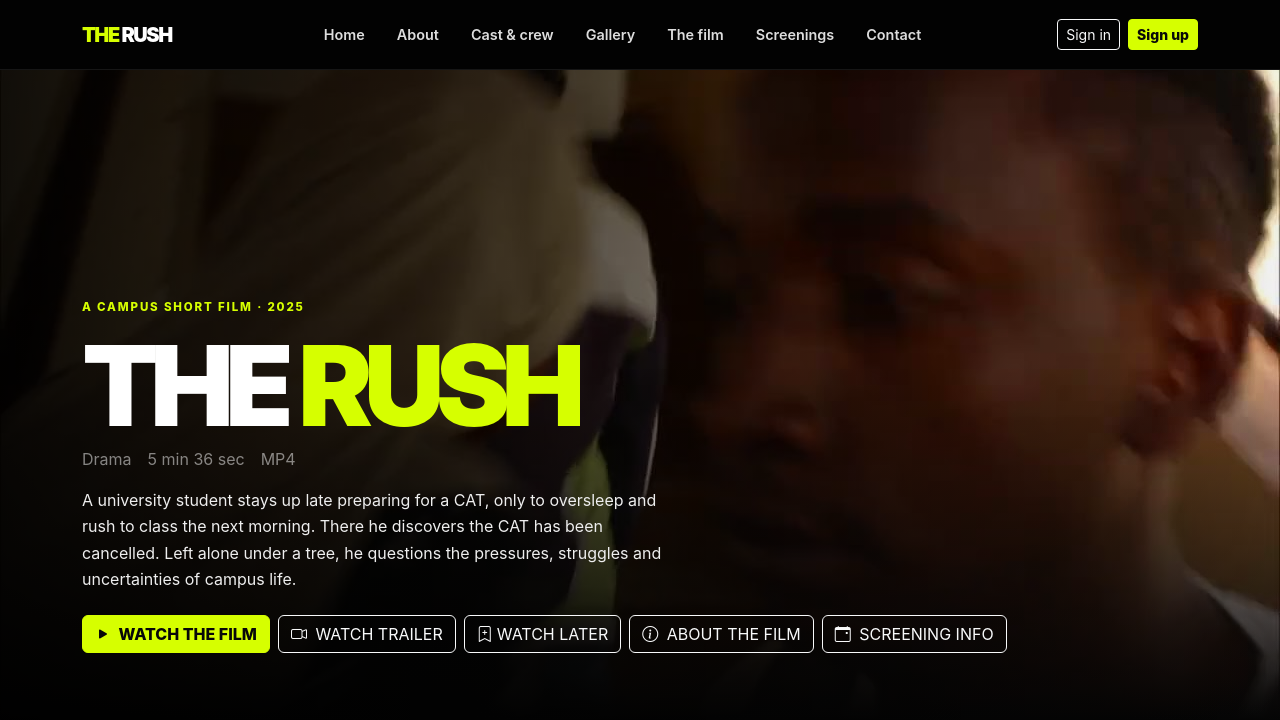
requires a sign in before showing the full film
Click the link "The film": click(696, 34) x1=667 y1=26 x2=724 y2=43
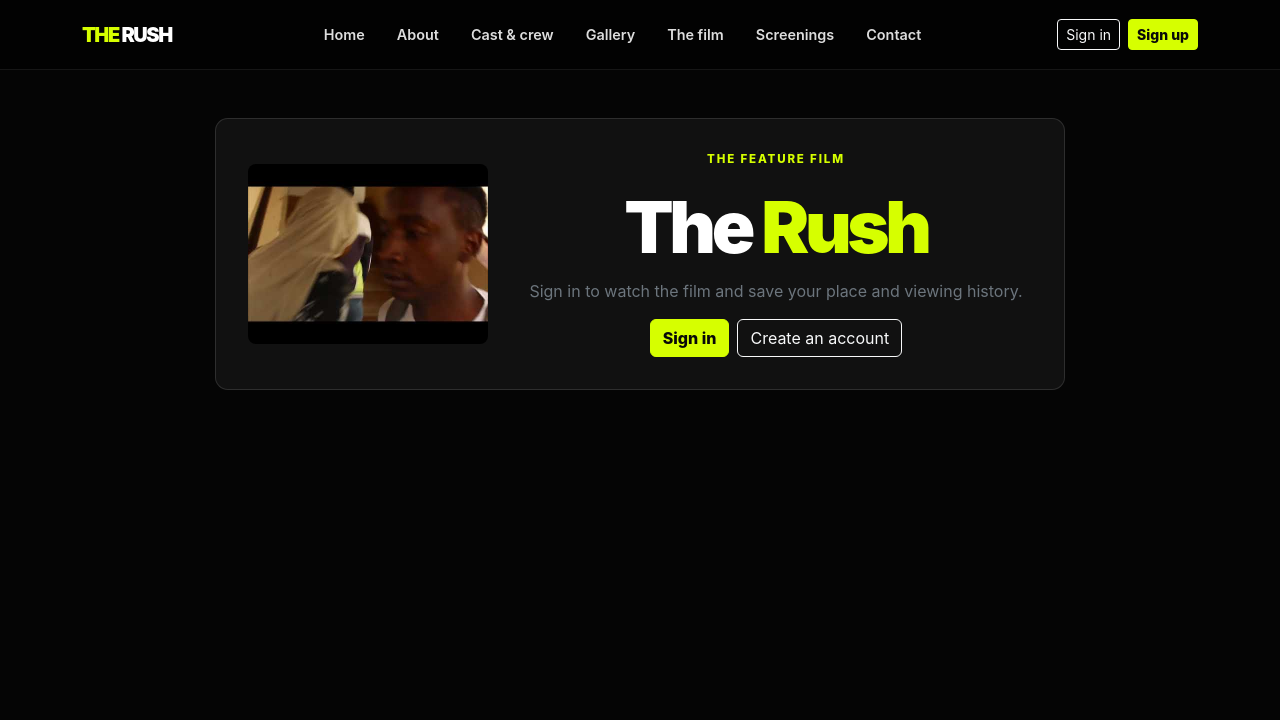
Check: the text "Sign in to watch the film" is shown, box x1=529 y1=281 x2=1023 y2=301
